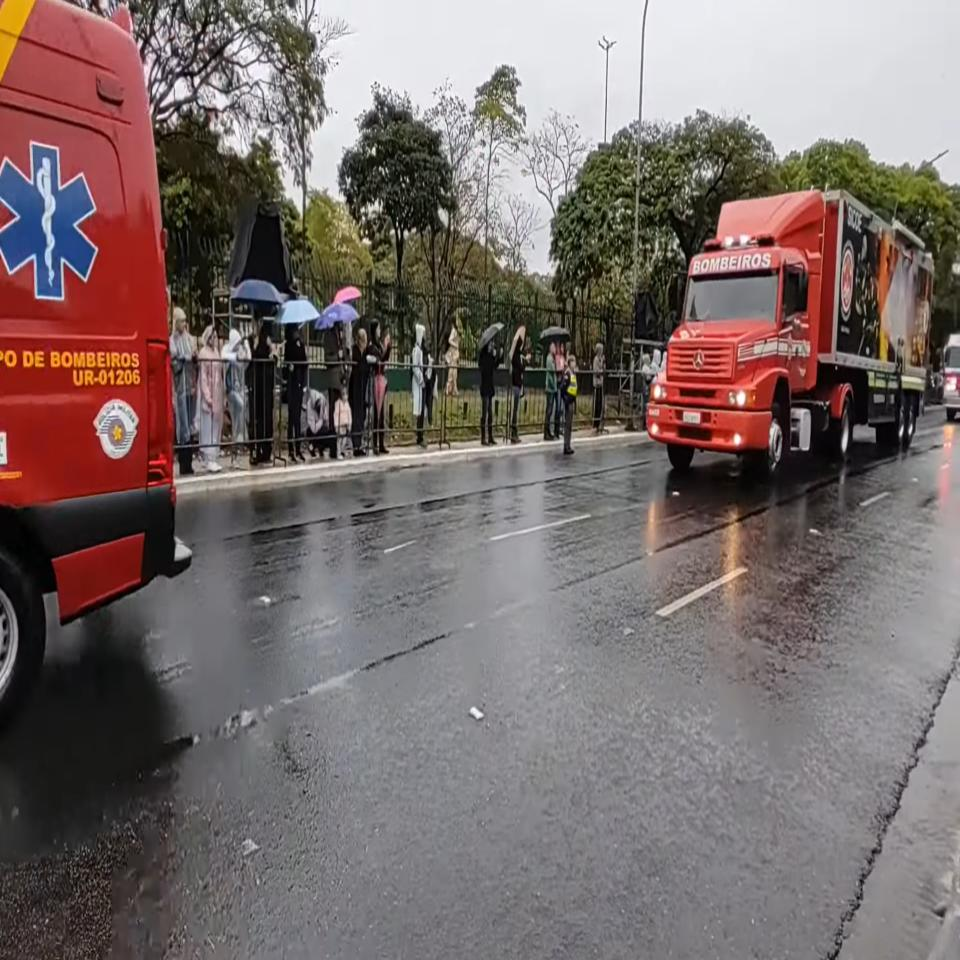viatura: (647, 186, 934, 485)
